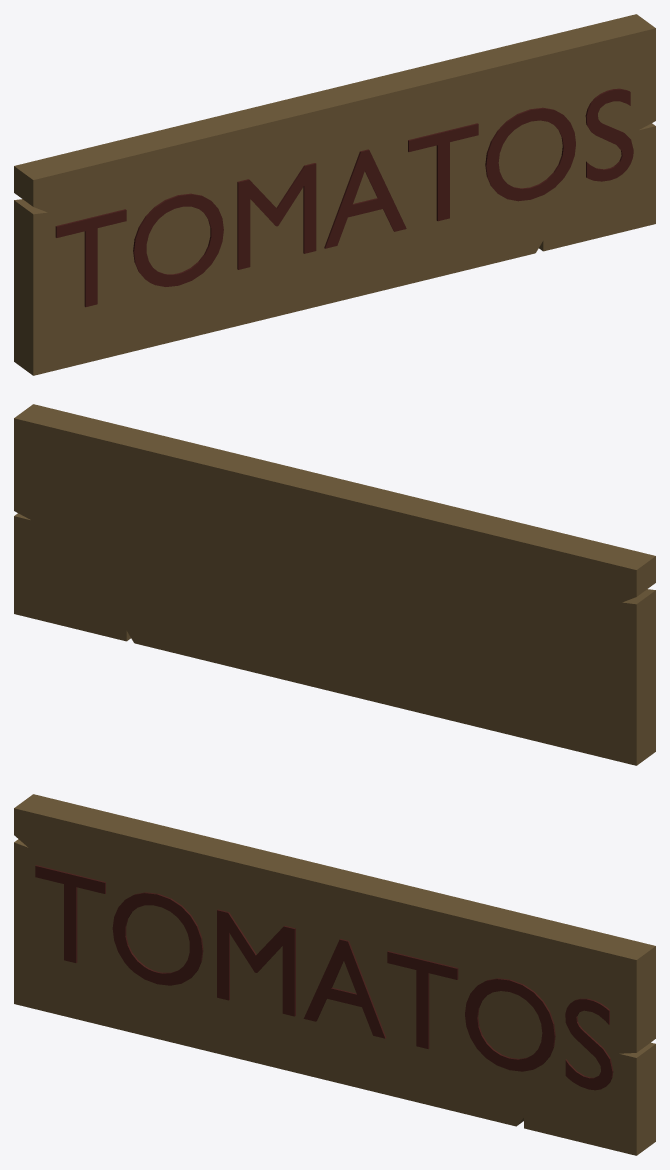
File: Banner_3.fbx
3 views of the same model, one above another, from view 1: azimuth 30°, elevation 25°; view 2: azimuth 150°, elevation 25°; view 3: azimuth 330°, elevation 25° (orthographic).
Visible parts, largest first — view 1: Banner_3; view 2: Banner_3; view 3: Banner_3.
Part boxes in pixels (box(x1,y1,x2,y2)): Banner_3: box(14, 14, 655, 375); Banner_3: box(14, 404, 655, 765); Banner_3: box(14, 794, 655, 1155).
Size of the model in its own units: 106 by 31.86 by 6.03.
